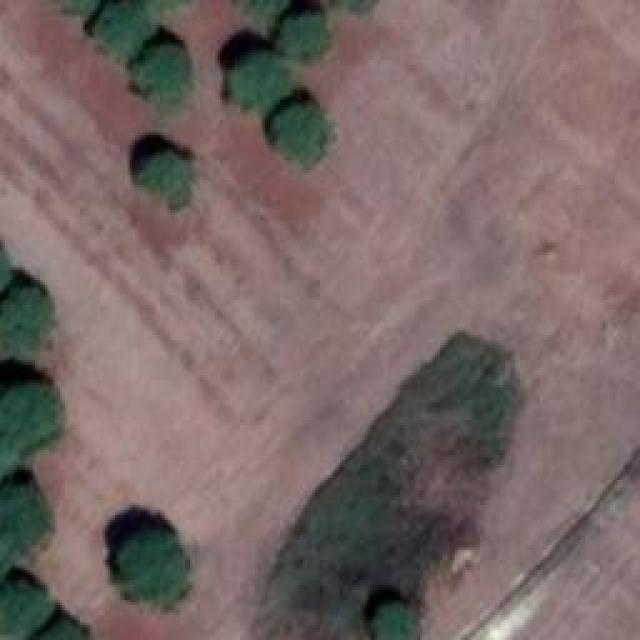Tree: (118, 530, 188, 610), (0, 382, 62, 472), (0, 483, 50, 573), (273, 105, 338, 173), (138, 43, 193, 118), (133, 150, 193, 210), (230, 55, 290, 113), (93, 0, 148, 60), (0, 577, 52, 640), (0, 285, 50, 350), (278, 13, 331, 58), (373, 602, 416, 640), (230, 0, 283, 28)
